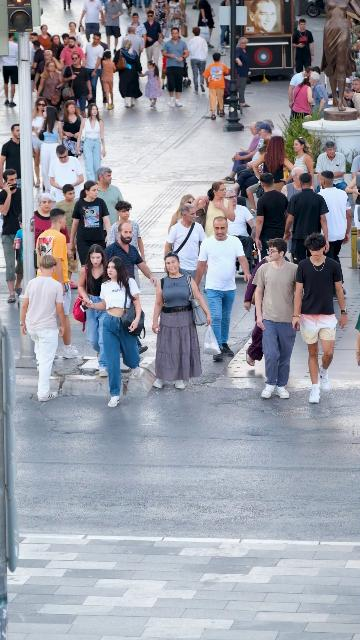person: (79, 257, 143, 409), (293, 233, 348, 405), (150, 252, 213, 391), (194, 216, 252, 364), (252, 237, 301, 399), (20, 255, 66, 403), (35, 208, 79, 360), (76, 245, 111, 377), (207, 188, 256, 275), (284, 173, 329, 264), (164, 203, 208, 290), (221, 122, 271, 198), (70, 181, 112, 269), (316, 170, 352, 267), (105, 223, 158, 287), (225, 144, 269, 218), (255, 172, 289, 263), (0, 169, 22, 303), (31, 193, 72, 261), (279, 167, 307, 261), (104, 200, 145, 263), (220, 122, 261, 184), (36, 105, 63, 198), (192, 181, 236, 238), (252, 136, 295, 192), (76, 102, 106, 182), (244, 260, 266, 367), (2, 35, 34, 107), (162, 28, 189, 107), (116, 37, 145, 109), (49, 145, 85, 202), (62, 53, 93, 117), (94, 166, 124, 232), (202, 53, 231, 120), (315, 141, 347, 192), (30, 98, 48, 188), (82, 32, 104, 104), (186, 26, 208, 95), (58, 100, 83, 160), (56, 184, 80, 244), (33, 60, 64, 104), (142, 10, 164, 72), (36, 49, 63, 98), (292, 18, 315, 74), (0, 123, 21, 183), (290, 137, 315, 186), (289, 78, 315, 125), (288, 65, 314, 110), (235, 37, 251, 110), (102, 0, 124, 53), (78, 0, 105, 42), (139, 60, 162, 109), (168, 194, 195, 235), (13, 213, 26, 296), (308, 70, 329, 119), (100, 51, 117, 110), (26, 40, 45, 88), (121, 27, 147, 61), (197, 0, 215, 49), (164, 0, 186, 40), (60, 36, 86, 67), (46, 35, 65, 70), (347, 155, 360, 206), (149, 0, 170, 31), (219, 0, 232, 47), (127, 13, 146, 44), (343, 77, 360, 109), (63, 22, 80, 48), (38, 25, 52, 52), (263, 119, 283, 137), (354, 315, 360, 367), (29, 32, 41, 55), (75, 34, 87, 55), (132, 0, 146, 18), (58, 33, 69, 49), (63, 0, 70, 11)
